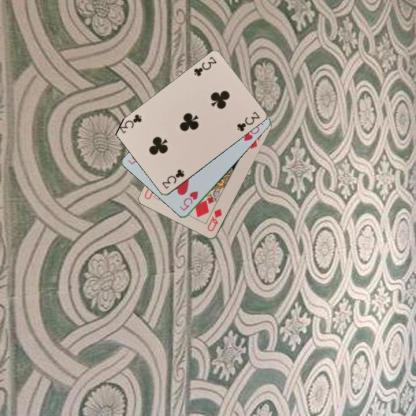3c: (190, 54, 218, 78), (160, 166, 186, 190)
5h: (177, 188, 199, 212)
Qd: (205, 206, 223, 233)
